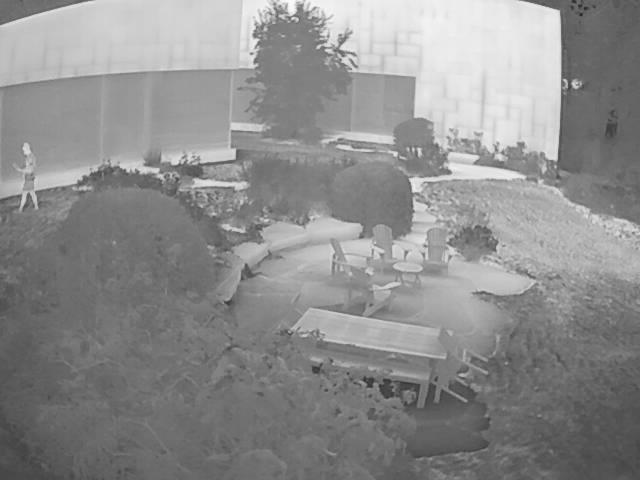person: (10, 140, 41, 218)
